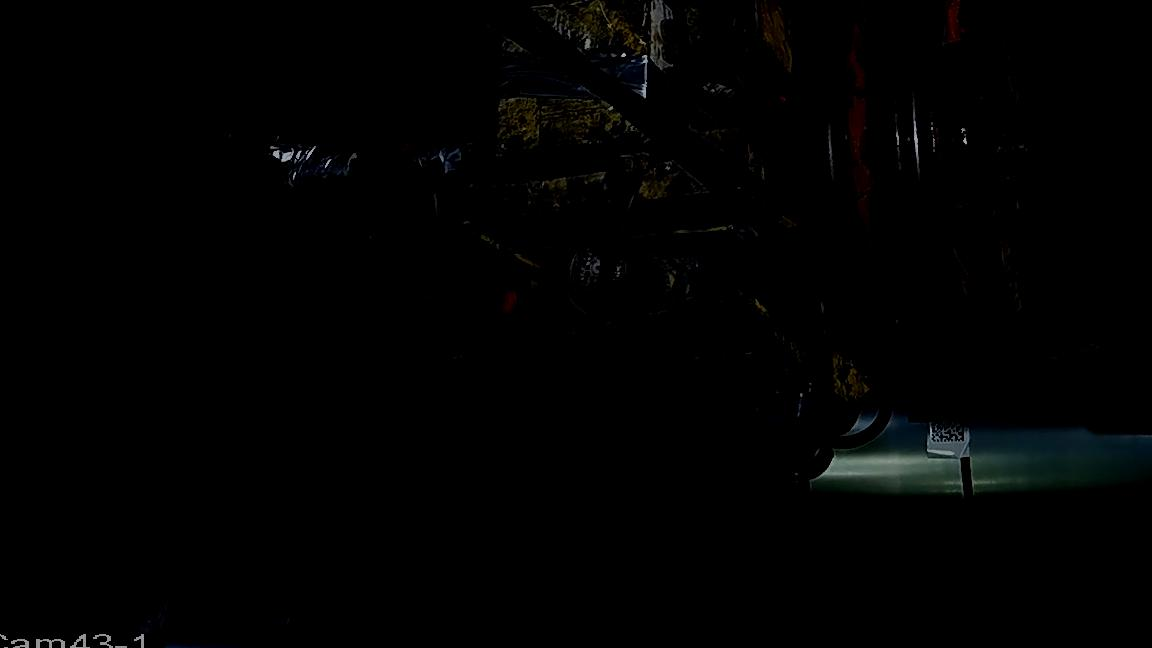data matrix: (930, 407, 969, 446)
